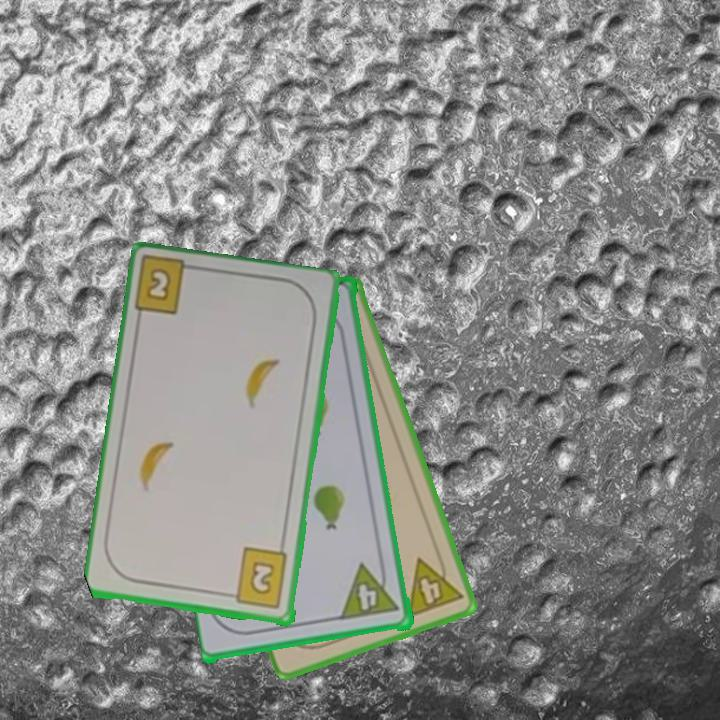2b: (223, 545, 291, 612), (142, 265, 175, 305)
4p: (403, 548, 466, 621), (338, 563, 384, 619)
